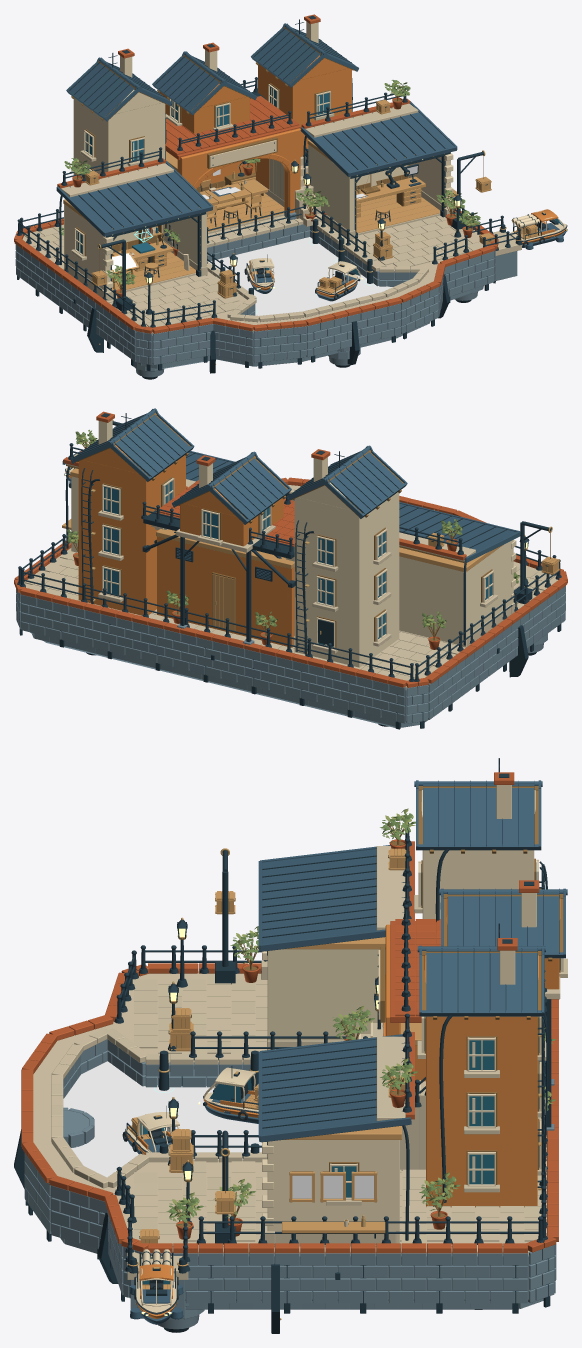
Rendered from chongzhen-refined-v2.glb.
3 renders of one model, top to bottom at view 1: azimuth 30°, elevation 25°; view 2: azimuth 150°, elevation 25°; view 3: azimuth 270°, elevation 25°, orthographic. The views are drawn at different scales.
Visible parts, largest first — view 1: harbor_slate, harbor_stone, harbor_stone_paving, harbor_metal, harbor_plaster_cream, harbor_wood, harbor_plaster_clay, harbor_plaster_orange, harbor_pool, harbor_wood_dark, harbor_paper (×2), harbor_leaf (+3 smaller); view 2: harbor_stone, harbor_plaster_cream, harbor_plaster_orange, harbor_metal, harbor_slate, harbor_plaster_clay, harbor_stone_paving, harbor_paper, harbor_wood, harbor_wood_dark, harbor_glass, harbor_leaf (+1 smaller); view 3: harbor_slate (×2), harbor_stone_paving, harbor_stone, harbor_metal, harbor_plaster_cream, harbor_plaster_orange, harbor_plaster_clay, harbor_pool, harbor_wood, harbor_paper (×4), harbor_wood_dark, harbor_leaf (+2 smaller).
Part boxes in pixels (bbox=[...]): harbor_slate: bbox=[56, 23, 457, 237]; harbor_stone: bbox=[15, 210, 517, 377]; harbor_stone_paving: bbox=[22, 103, 521, 334]; harbor_metal: bbox=[16, 15, 522, 379]; harbor_plaster_cream: bbox=[64, 21, 453, 290]; harbor_wood: bbox=[63, 99, 521, 298]; harbor_plaster_clay: bbox=[14, 14, 498, 333]; harbor_plaster_orange: bbox=[159, 55, 351, 213]; harbor_pool: bbox=[208, 237, 392, 320]; harbor_wood_dark: bbox=[71, 27, 483, 293]; harbor_paper (×2): bbox=[74, 84, 566, 270]; harbor_leaf: bbox=[59, 80, 480, 284]; harbor_stone: bbox=[16, 497, 565, 727]; harbor_plaster_cream: bbox=[71, 420, 516, 667]; harbor_plaster_orange: bbox=[78, 445, 294, 647]; harbor_metal: bbox=[17, 413, 561, 729]; harbor_slate: bbox=[62, 408, 520, 580]; harbor_plaster_clay: bbox=[14, 411, 567, 687]; harbor_stone_paving: bbox=[24, 453, 557, 689]; harbor_paper: bbox=[102, 478, 494, 647]; harbor_wood: bbox=[62, 462, 559, 630]; harbor_wood_dark: bbox=[66, 412, 550, 647]; harbor_glass: bbox=[104, 481, 492, 646]; harbor_leaf: bbox=[66, 429, 519, 629]; harbor_slate (×2): bbox=[130, 780, 567, 1324]; harbor_stone_paving: bbox=[33, 846, 567, 1279]; harbor_stone: bbox=[24, 1039, 556, 1329]; harbor_metal: bbox=[14, 758, 559, 1333]; harbor_plaster_cream: bbox=[262, 785, 536, 1243]; harbor_plaster_orange: bbox=[383, 898, 560, 1207]; harbor_plaster_clay: bbox=[21, 772, 558, 1253]; harbor_pool: bbox=[63, 1061, 261, 1177]; harbor_wood: bbox=[127, 848, 421, 1266]; harbor_paper (×4): bbox=[126, 859, 563, 1312]; harbor_wood_dark: bbox=[145, 786, 563, 1242]; harbor_leaf: bbox=[166, 809, 555, 1225].
Size of the model in its own units: 20.15 by 10.01 by 13.39.
